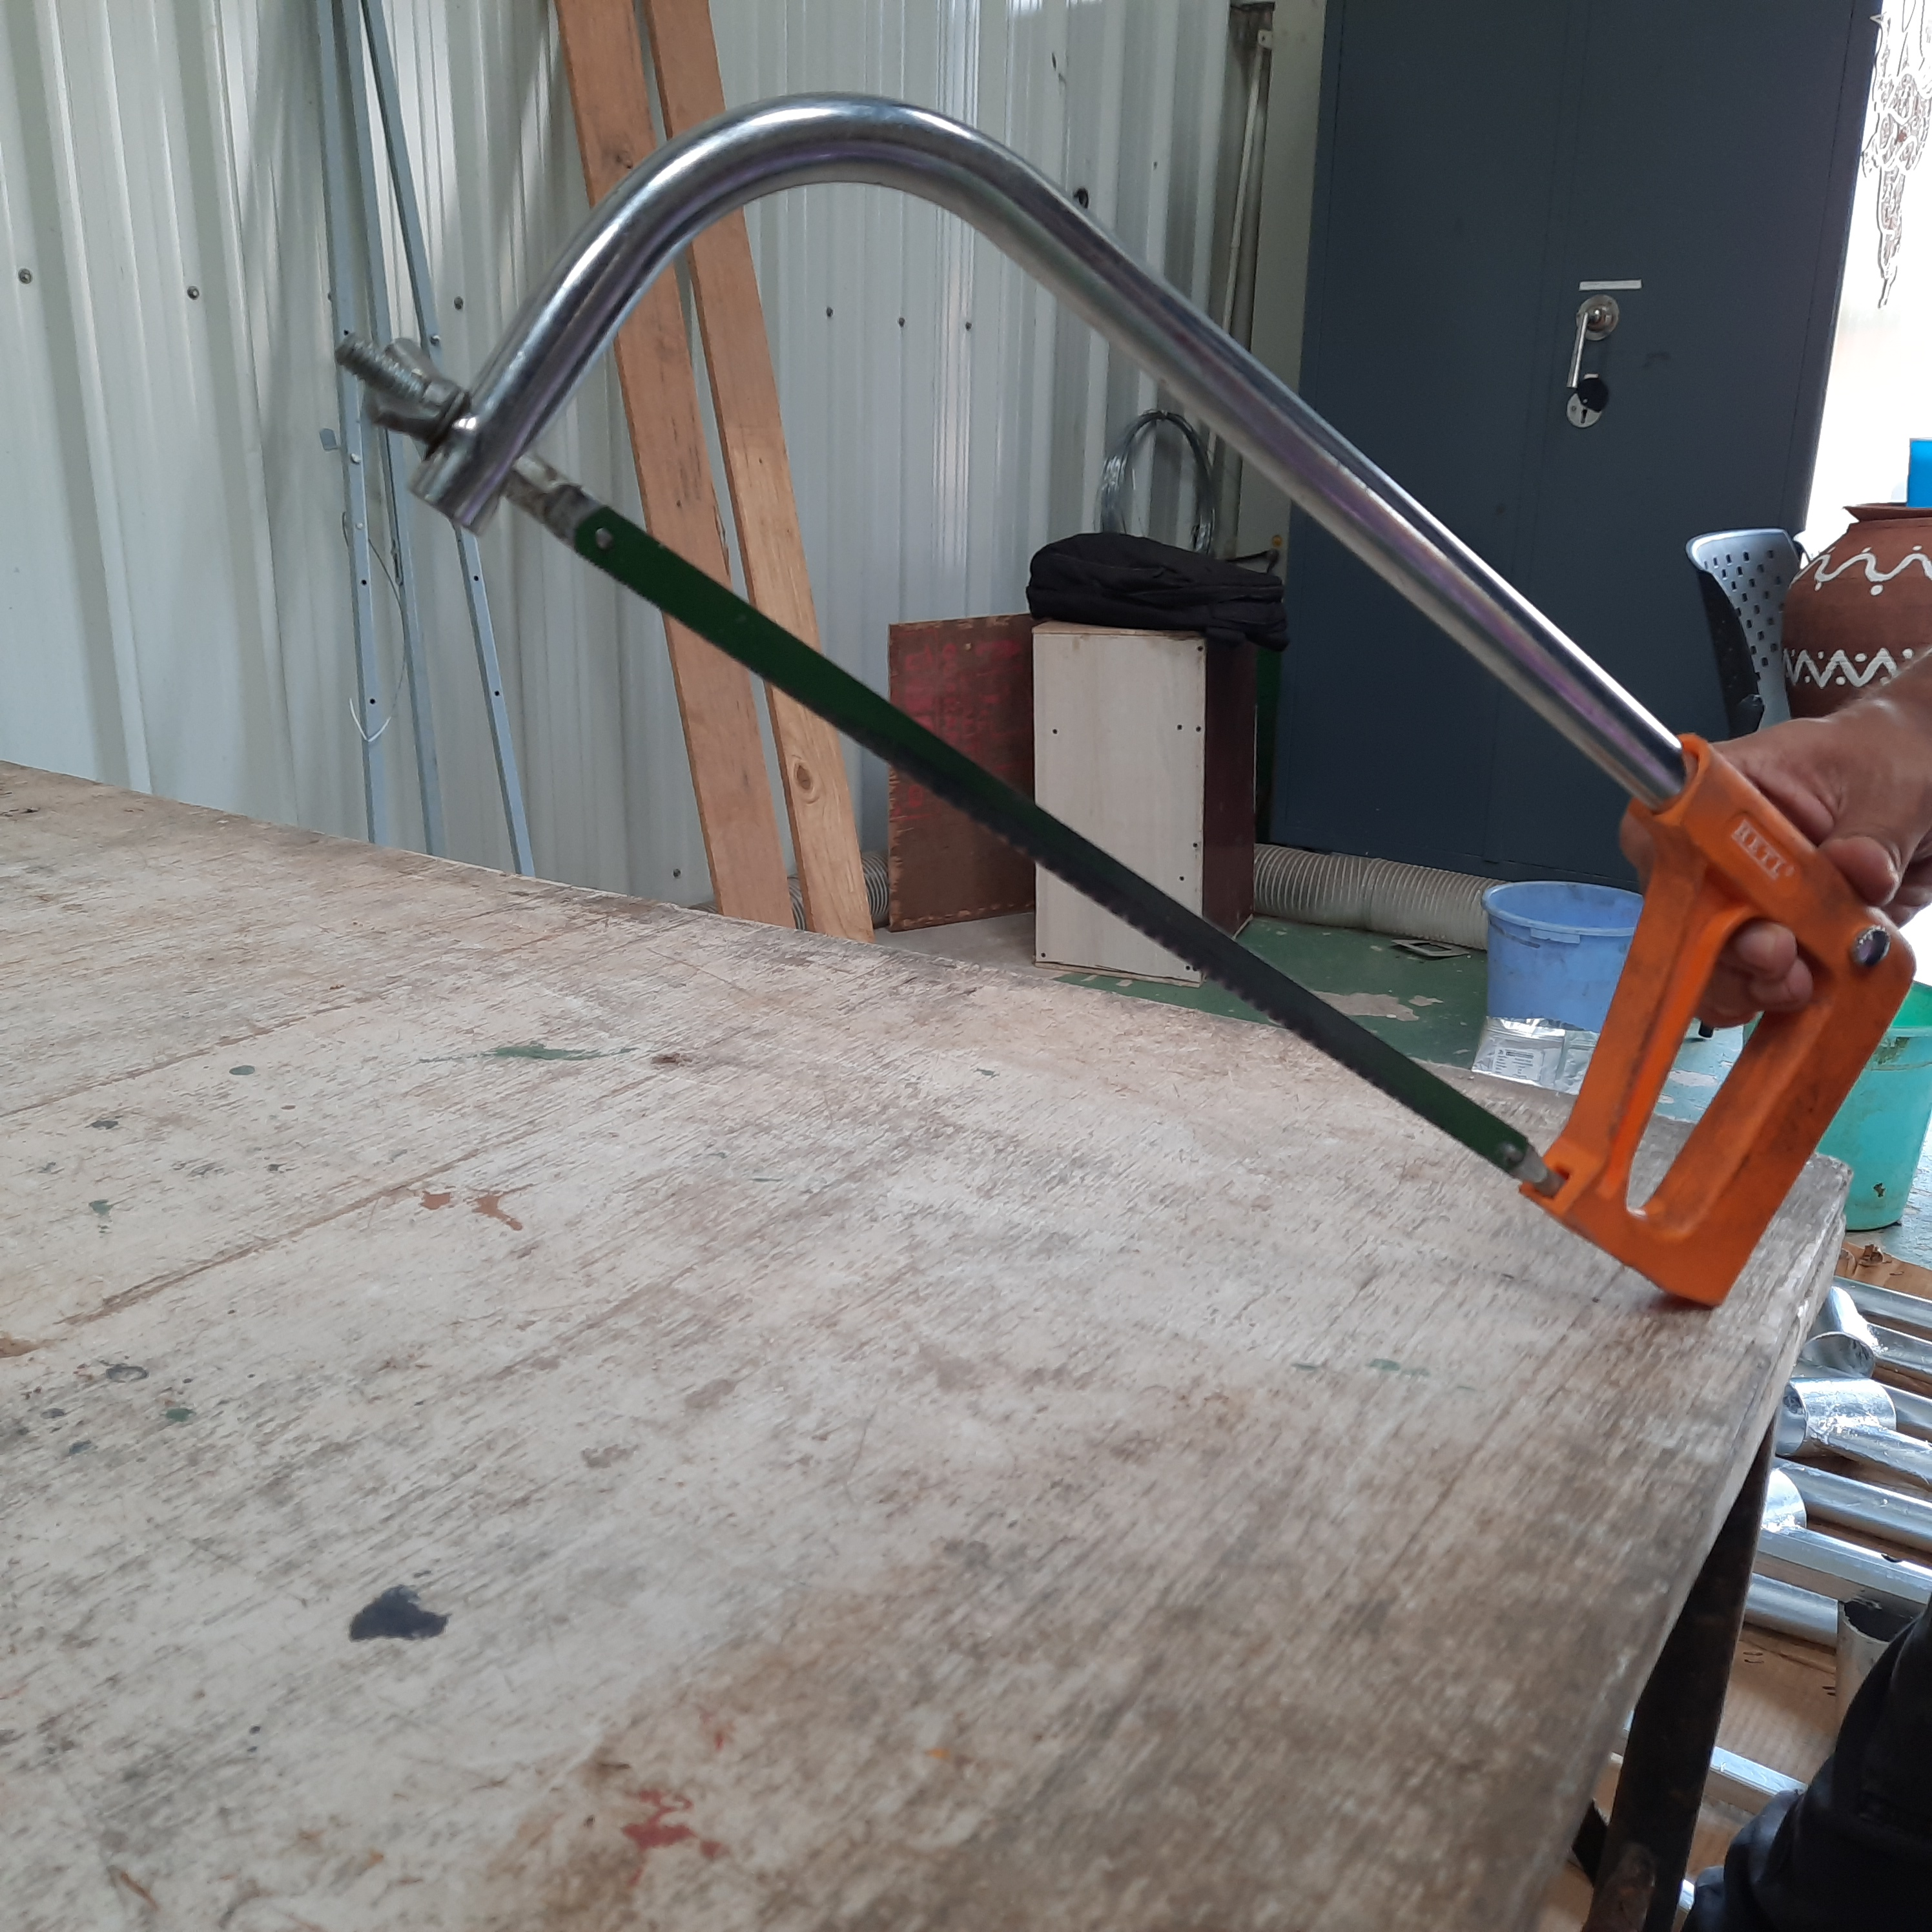Hexaframe: (280, 76, 1930, 1352)
